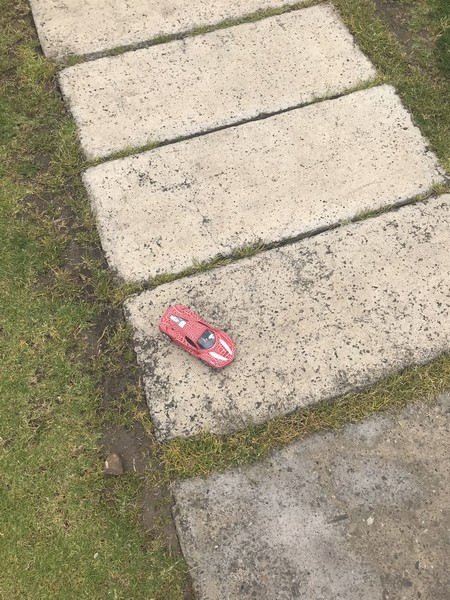RC: (157, 302, 239, 371)
